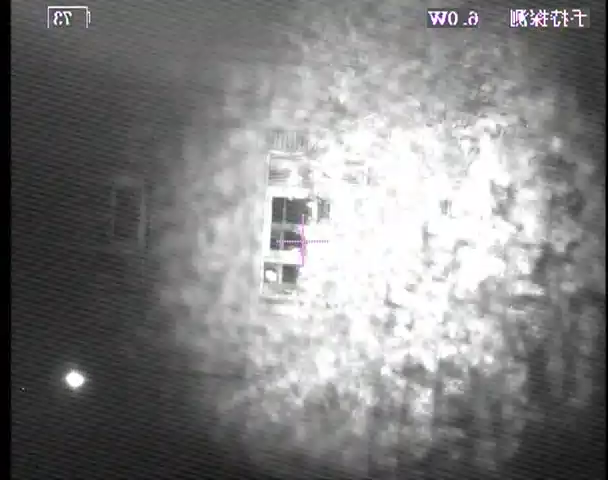my: (265, 268, 277, 281)
